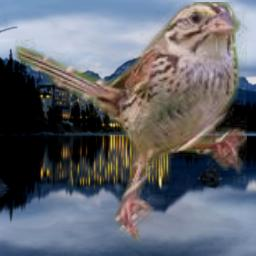Sparrow: (14, 2, 247, 244)
